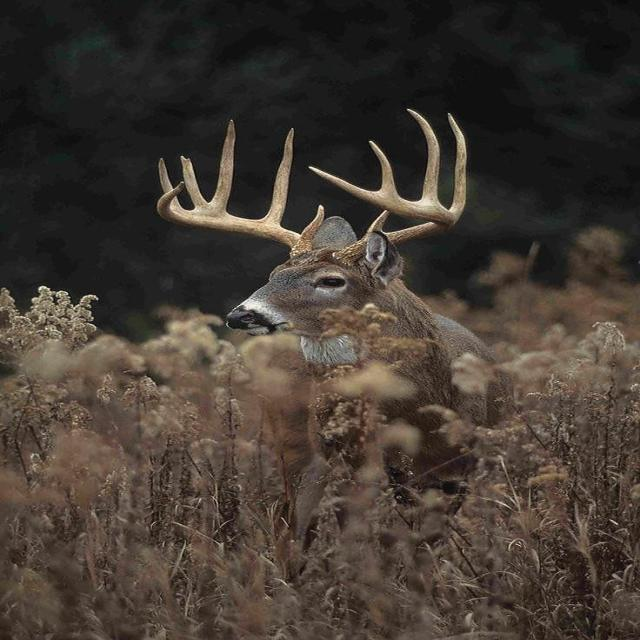L-G2: (446, 112, 467, 225)
L-G3: (406, 108, 440, 202)
L-G4: (368, 140, 397, 194)
R-F: (157, 181, 314, 259)
R-G1: (301, 204, 325, 241)
R-G2: (261, 128, 294, 225)
R-G3: (210, 119, 236, 212)
R-G4: (180, 155, 208, 208)
